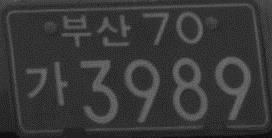0: (173, 9, 205, 46)
3: (76, 57, 120, 124)
7: (140, 8, 172, 47)
8: (171, 55, 208, 123)
9: (213, 54, 252, 123), (123, 57, 162, 124)
가: (23, 59, 68, 109)
부산_O: (58, 12, 132, 50)
